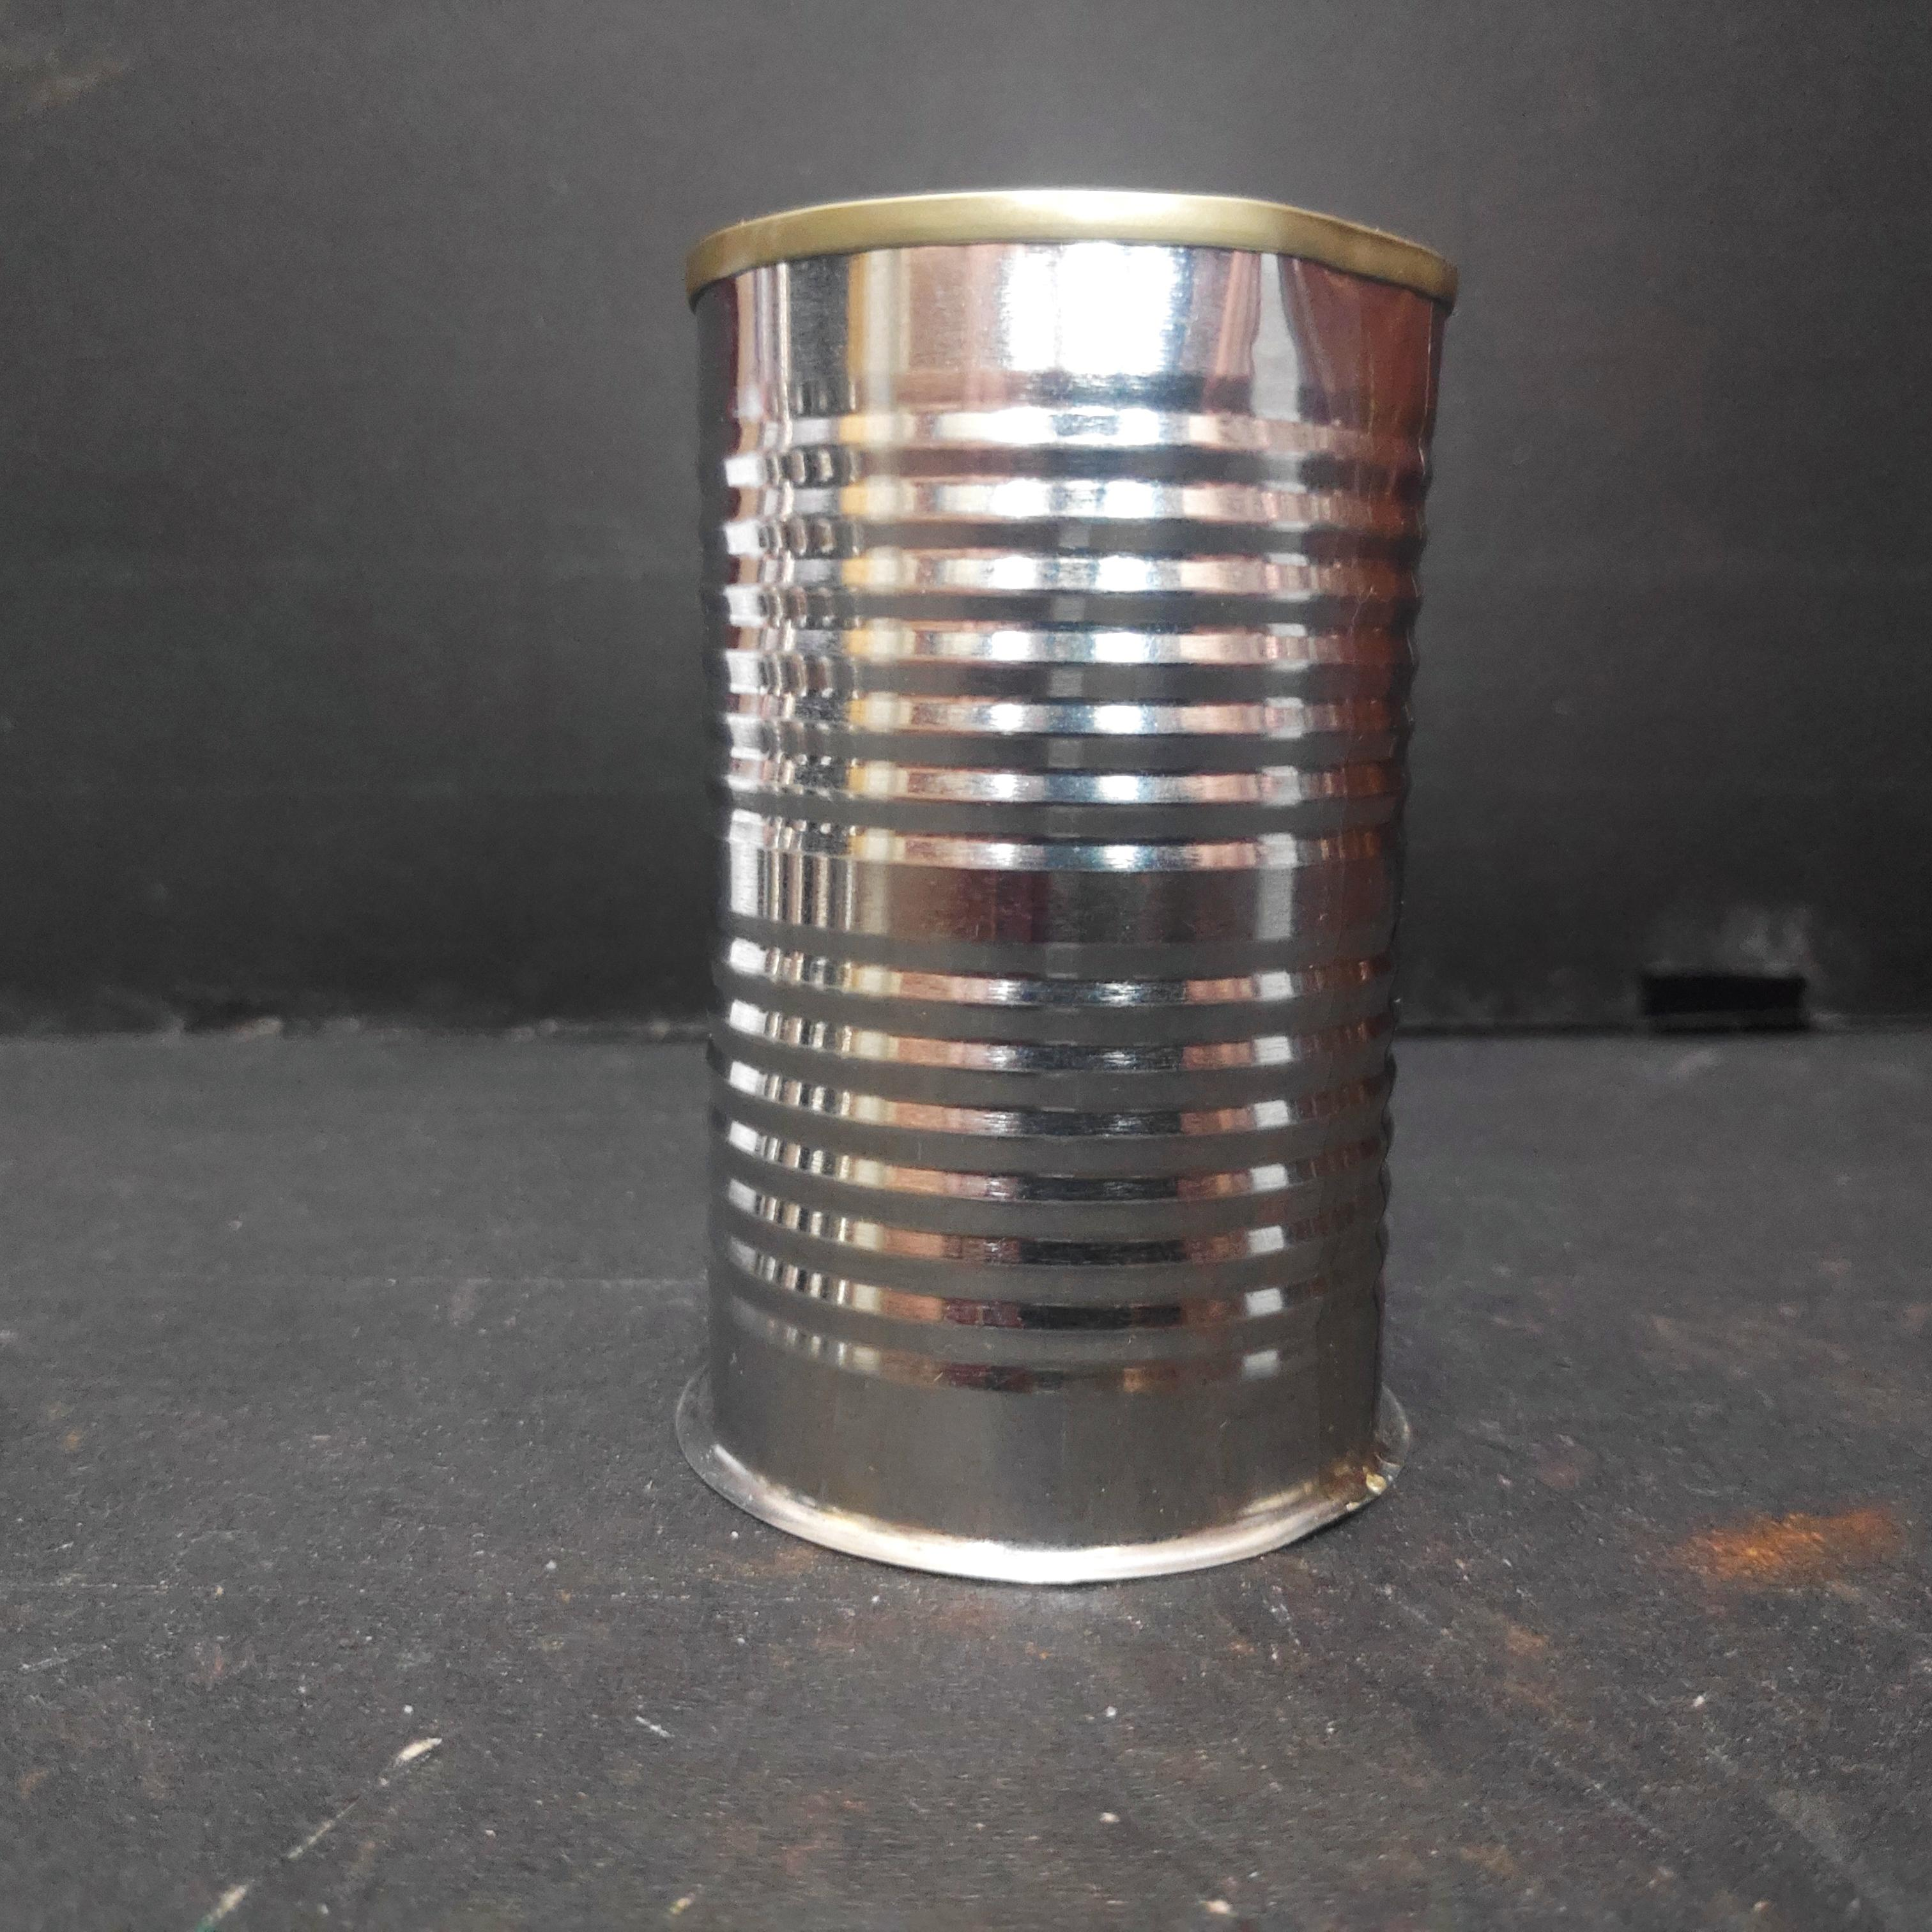Minor Defect: (669, 180, 1477, 1596)
